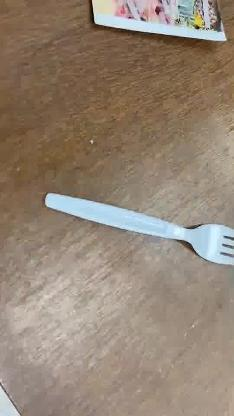Others: (44, 192, 234, 264)
